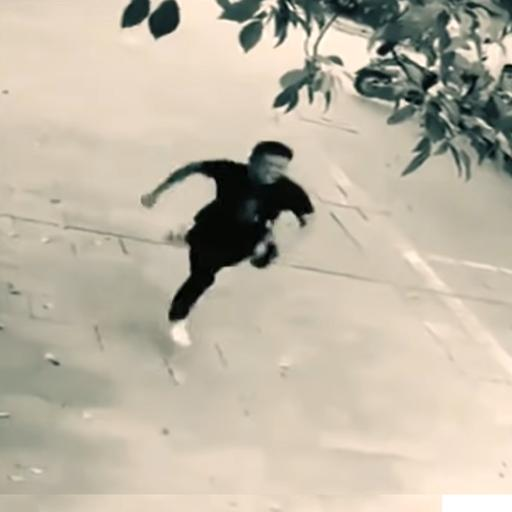Humans: (147, 79, 315, 399)
